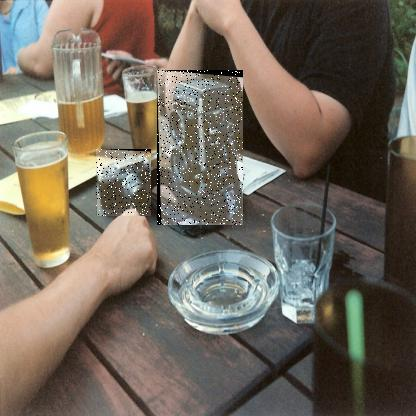Camera: (158, 71, 245, 227), (98, 150, 154, 218)
